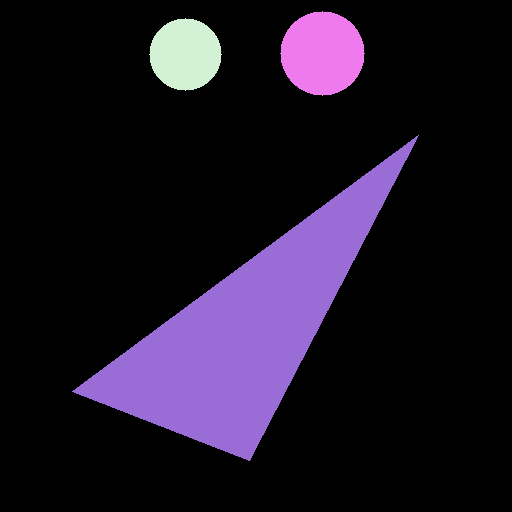circle: (280, 11, 364, 95), (149, 18, 221, 90)
triangle: (72, 135, 418, 460)
